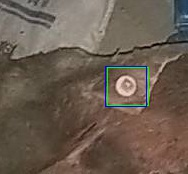text: (107, 67, 148, 105)
